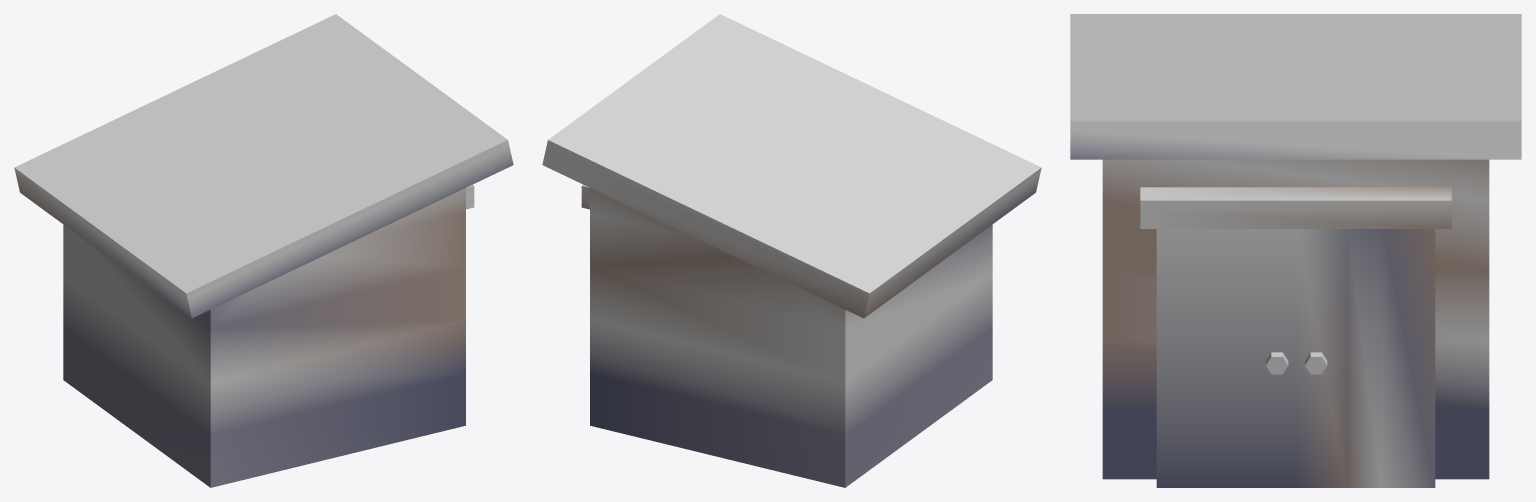
The model's file is Prop_Barn1V3.fbx.
The picture shows the model from 3 angles, left to right: view 1: azimuth 30°, elevation 25°; view 2: azimuth 150°, elevation 25°; view 3: azimuth 270°, elevation 25°; orthographic projection. The views are drawn at different scales.
Parts seen in each view (by area): view 1: Prop_Barn01; view 2: Prop_Barn01; view 3: Prop_Barn01.
Part boxes in pixels (<box>): Prop_Barn01: <box>14,14,513,487</box>; Prop_Barn01: <box>542,14,1041,487</box>; Prop_Barn01: <box>1070,14,1521,487</box>.
Bounding box in the file's own units: 256 × 215 × 233.
